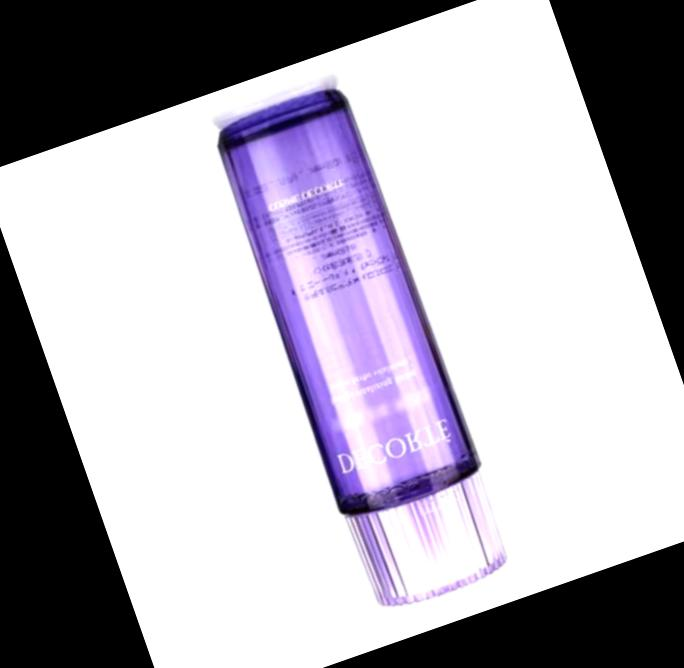cosmetic: (197, 78, 519, 615)
